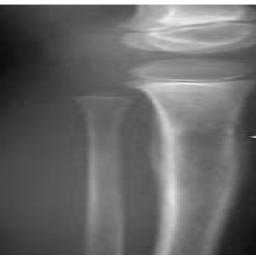cancer: (150, 111, 250, 205)
